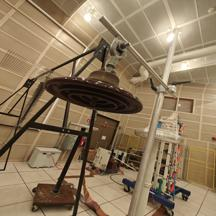insulator: (41, 63, 146, 120)
